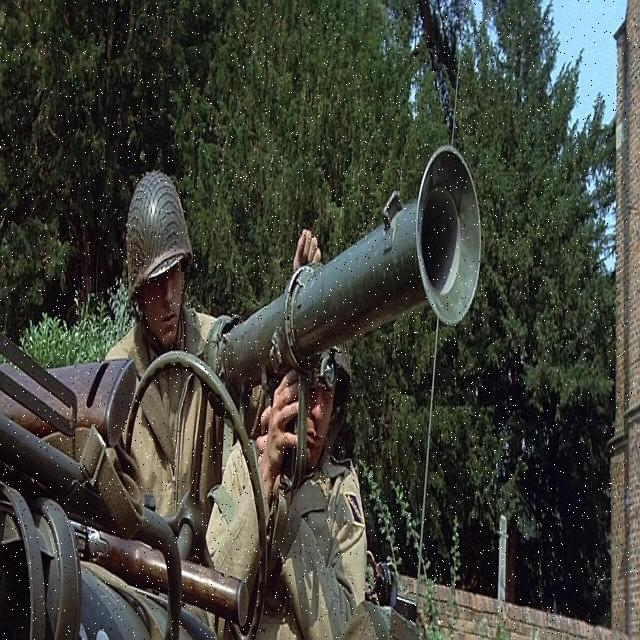bazooka: (203, 135, 494, 426)
